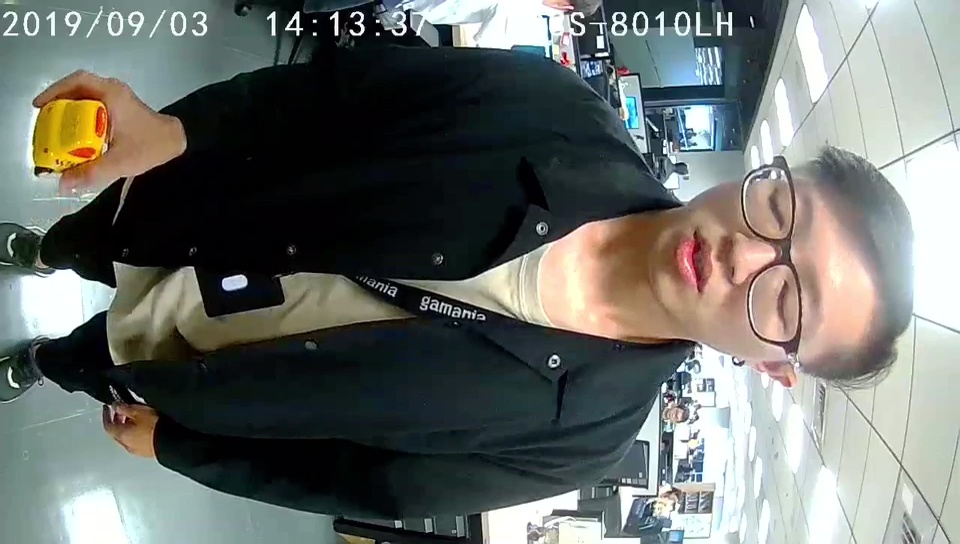car: (32, 96, 110, 176)
